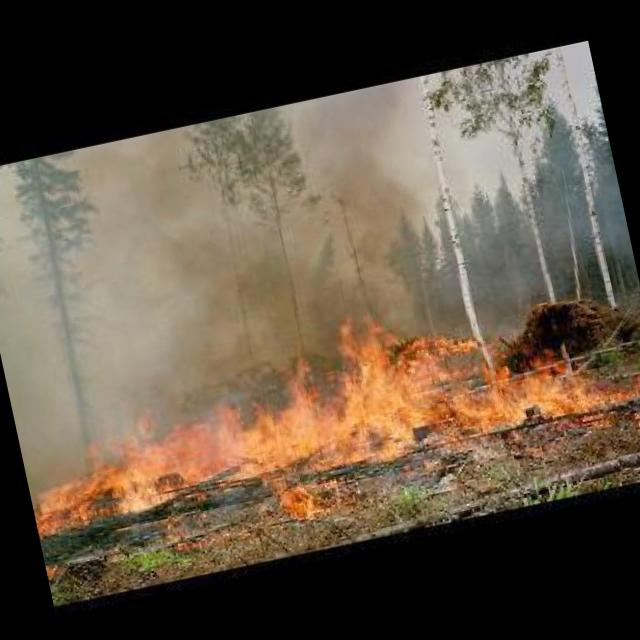fire: (16, 261, 640, 570)
smoke: (118, 85, 449, 412)
